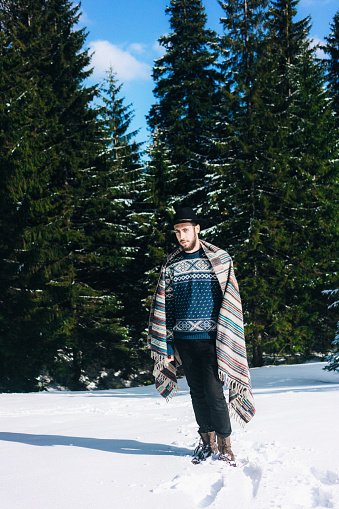em pe: (144, 206, 248, 466)
